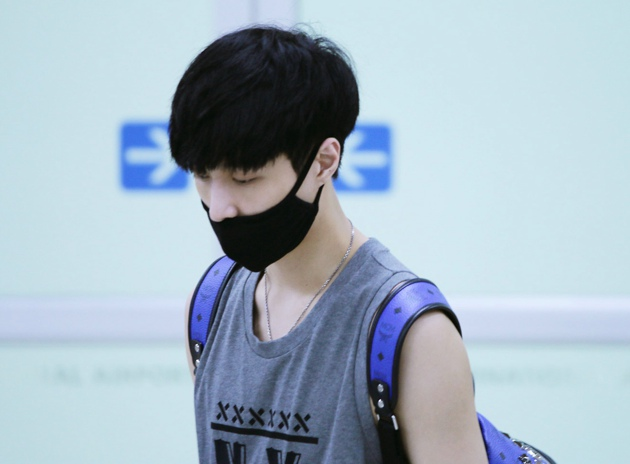face_mask: (195, 120, 311, 267)
